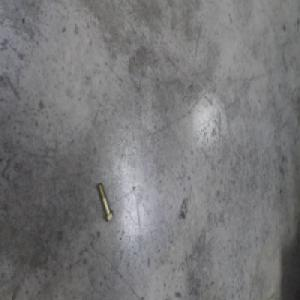Bolt: (95, 181, 113, 223)
